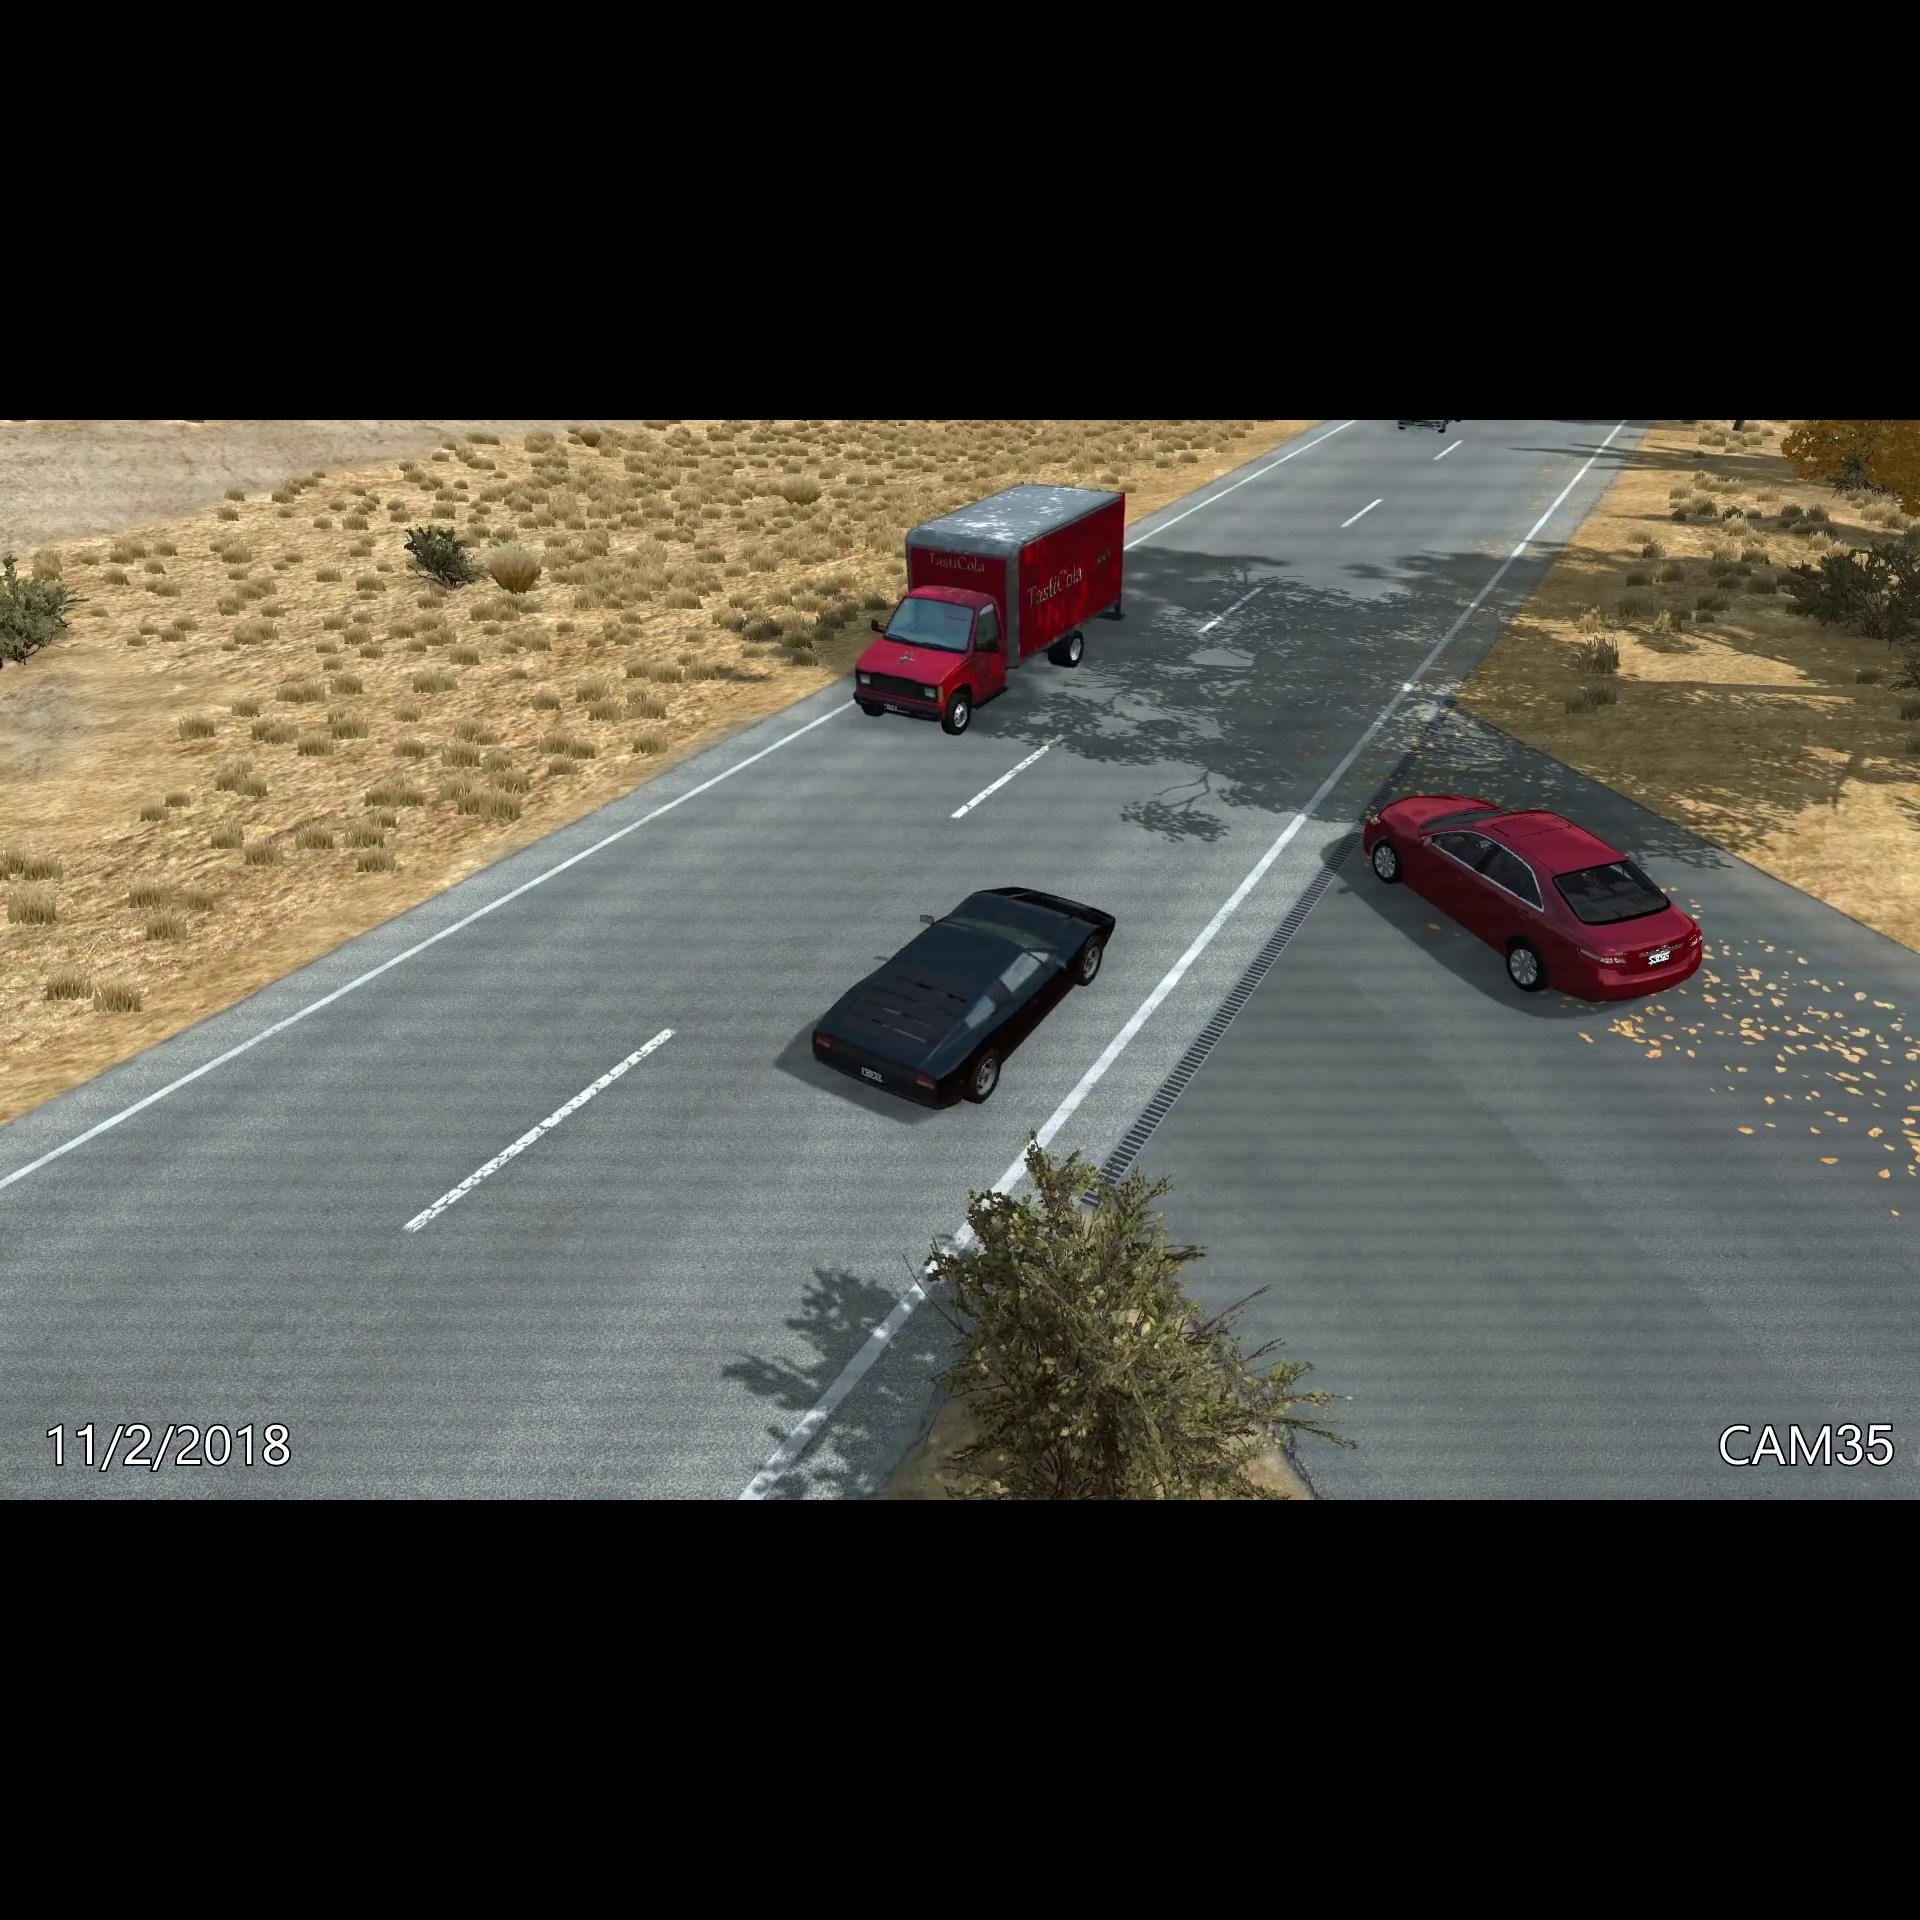vehicle: (1357, 782, 1718, 1020), (847, 471, 1141, 747), (805, 874, 1129, 1118)
